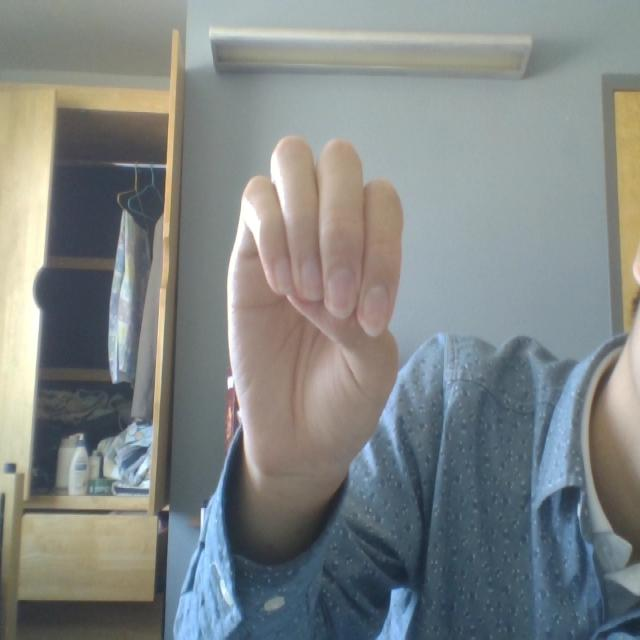E: (204, 64, 451, 536)
